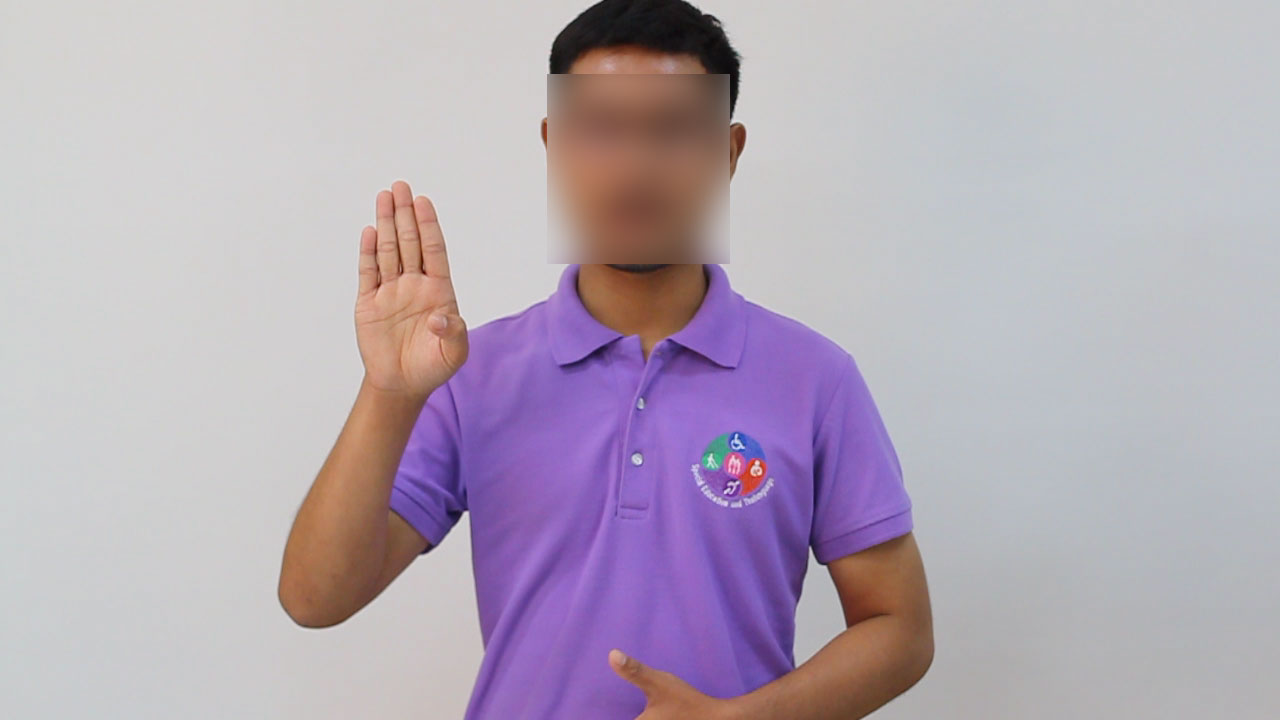bor: (343, 163, 480, 423)
